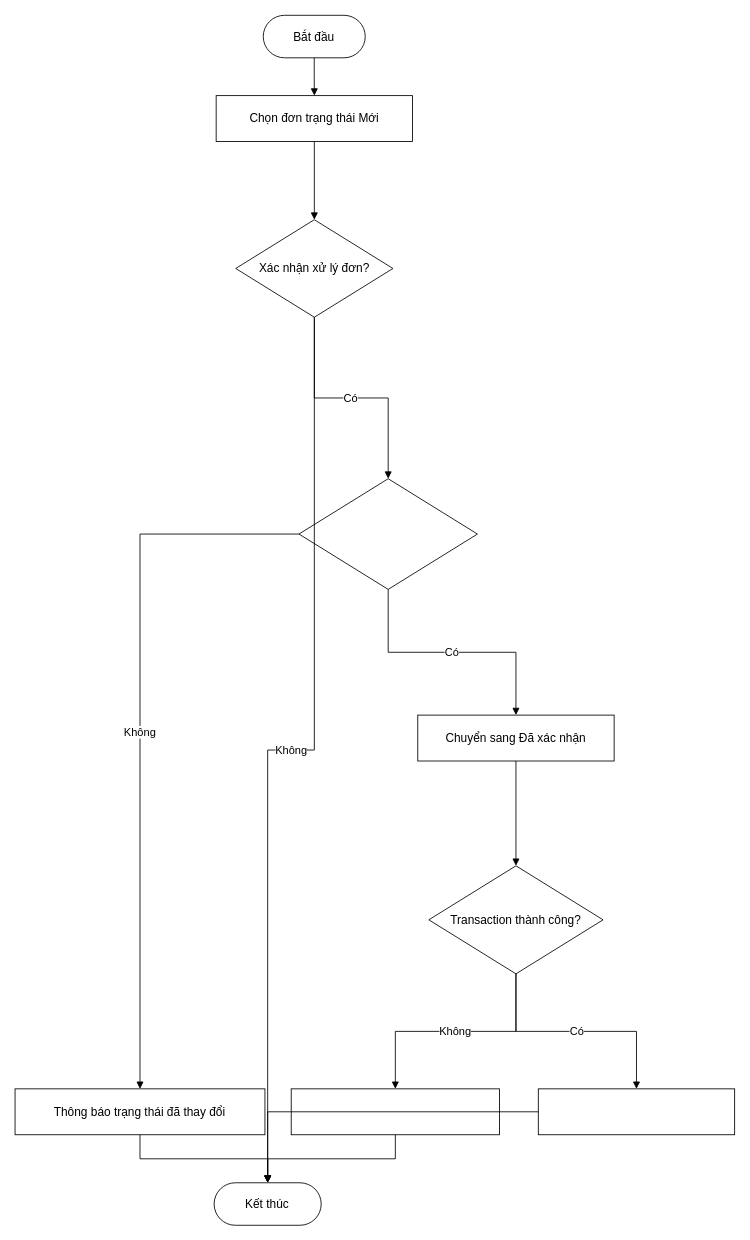
The diagram is 750 pixels wide and 1240 high, and some of its shapes have lost their labels. Here are the shapes that lost their labels. From the top down, the box of each, then its label:
(298, 478, 477, 589): Trạng thái và phiên bản hợp lệ?
(290, 1088, 499, 1135): Rollback và thông báo lỗi
(537, 1088, 735, 1135): Hiển thị trạng thái mới
